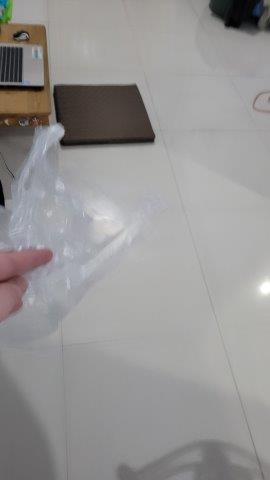plastik: (3, 123, 133, 343)
